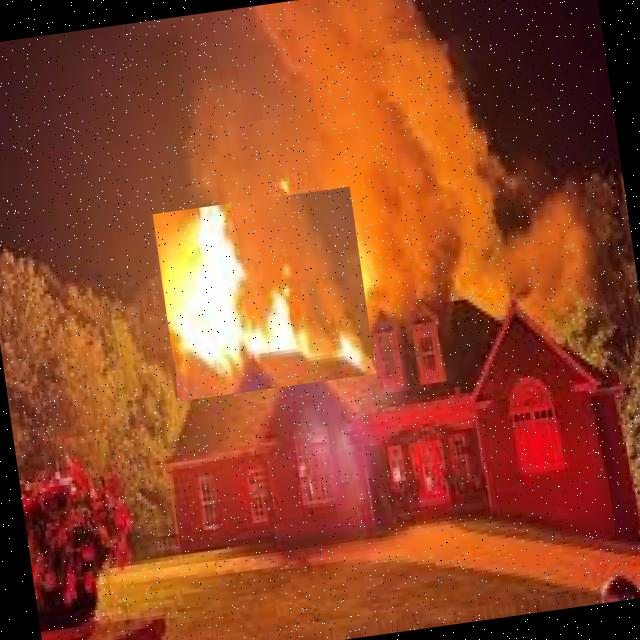fire: (152, 186, 376, 402)
